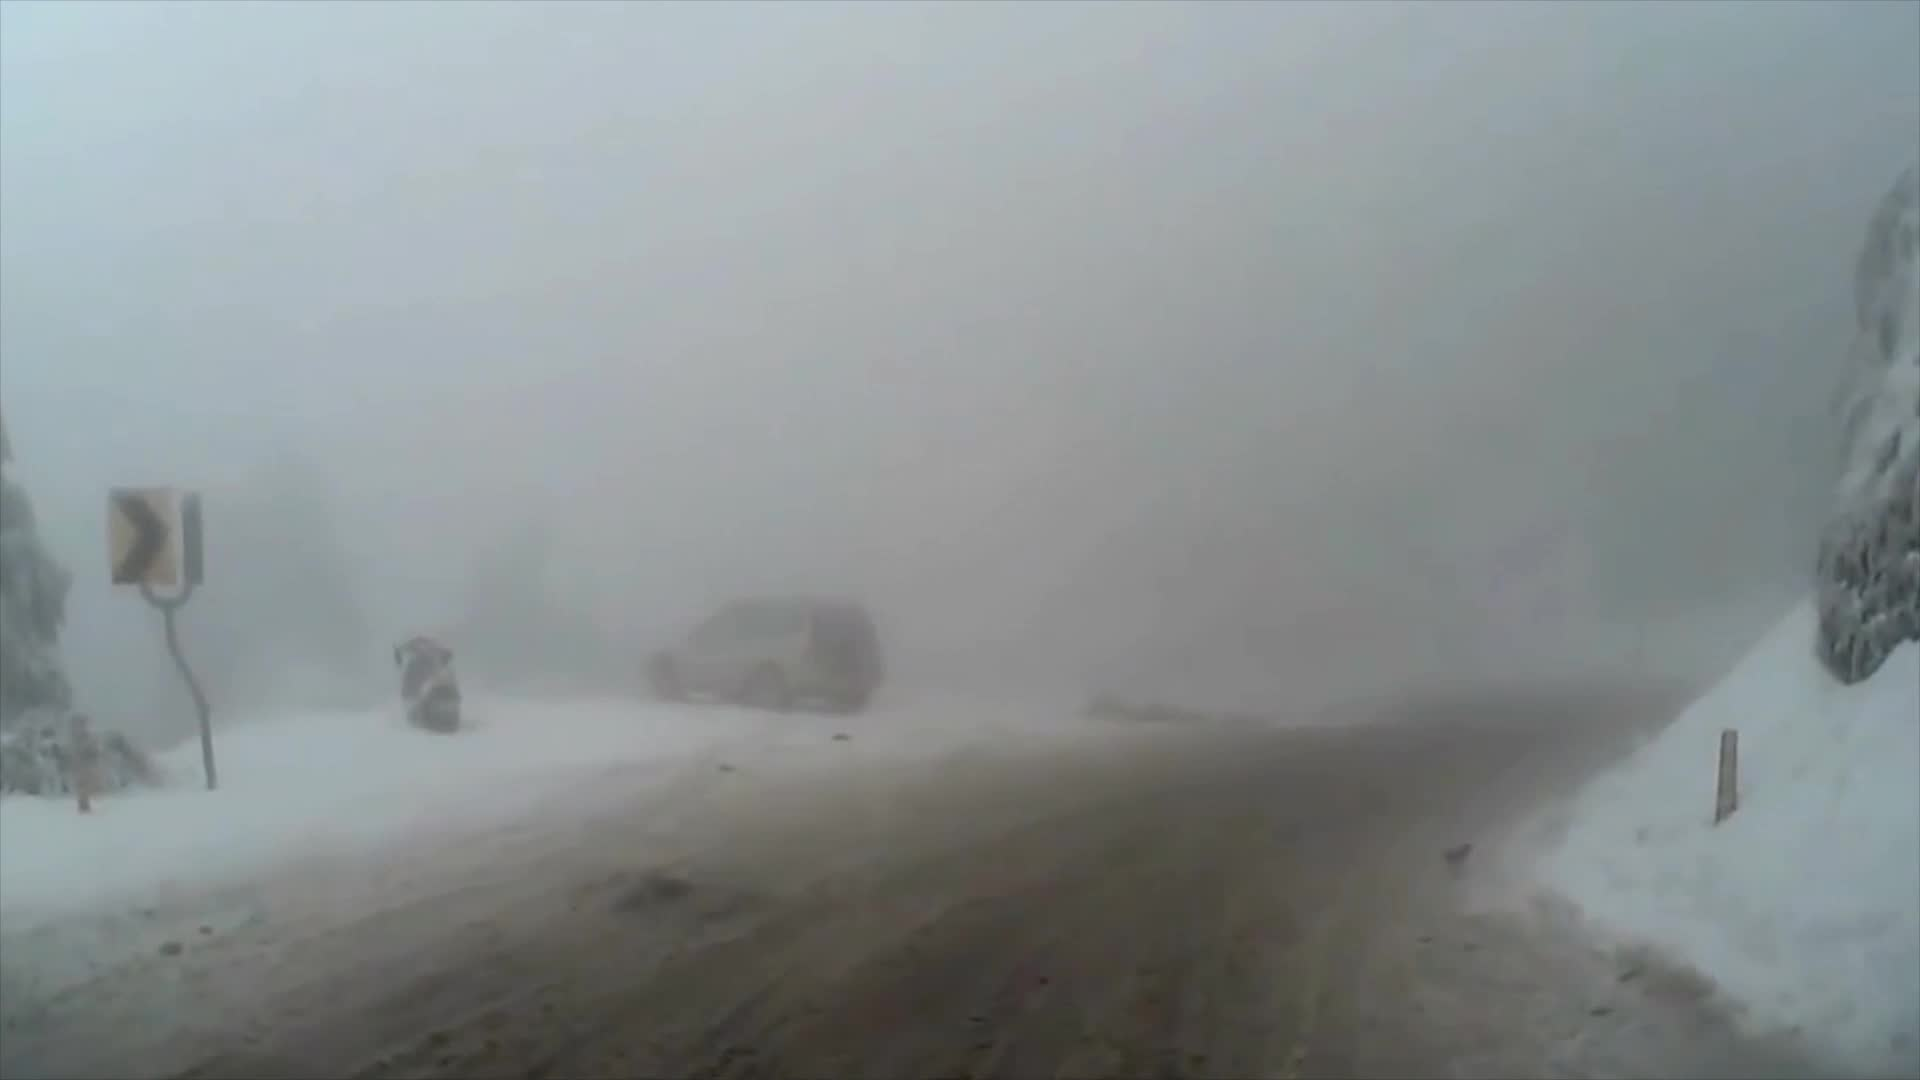vehicle: (640, 597, 880, 716)
